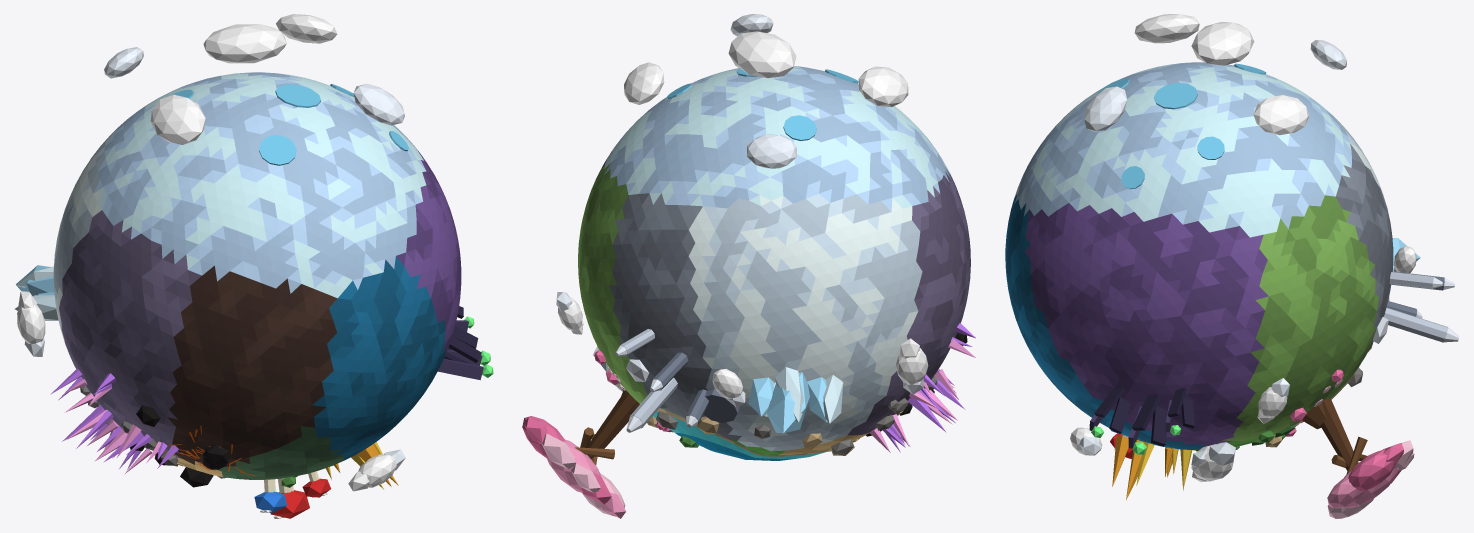
File: HeroPlanet.fbx
3 renders of one model, left to right at view 1: azimuth 30°, elevation 25°; view 2: azimuth 150°, elevation 25°; view 3: azimuth 270°, elevation 25°, orthographic. The views are drawn at different scales.
Visible parts, largest first — view 1: HeroPlanet; view 2: HeroPlanet; view 3: HeroPlanet.
Boxes of the visible parts, left/top/right/bottom form: HeroPlanet: left=15, top=14, right=493, bottom=518; HeroPlanet: left=522, top=14, right=975, bottom=518; HeroPlanet: left=1005, top=14, right=1459, bottom=518.
Size of the model in its own units: 318 by 354 by 328.
